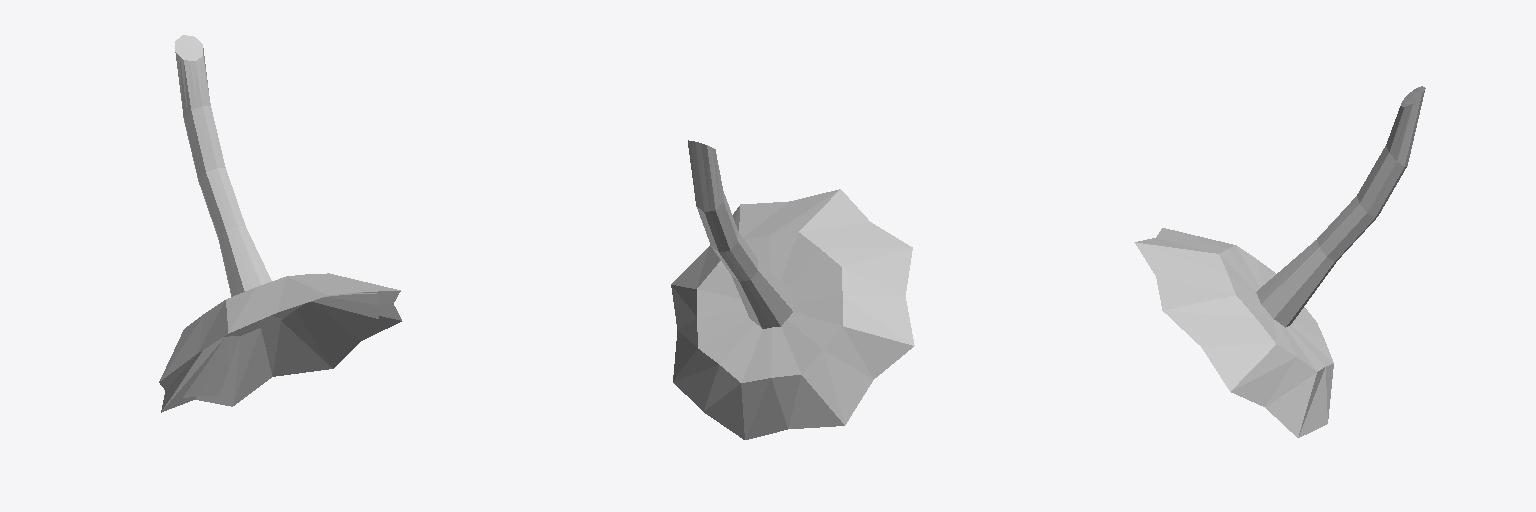
File: chili_stem.obj
The picture shows the model from 3 angles: view 1: azimuth 30°, elevation 25°; view 2: azimuth 150°, elevation 25°; view 3: azimuth 270°, elevation 25°; orthographic projection.
Parts seen in each view (by area): view 1: chili.001; view 2: chili.001; view 3: chili.001.
Part boxes in pixels (bbox=[...]): chili.001: bbox=[159, 35, 401, 412]; chili.001: bbox=[671, 140, 914, 439]; chili.001: bbox=[1134, 86, 1425, 437].
Size of the model in its own units: 0.021 by 0.0276 by 0.0217.